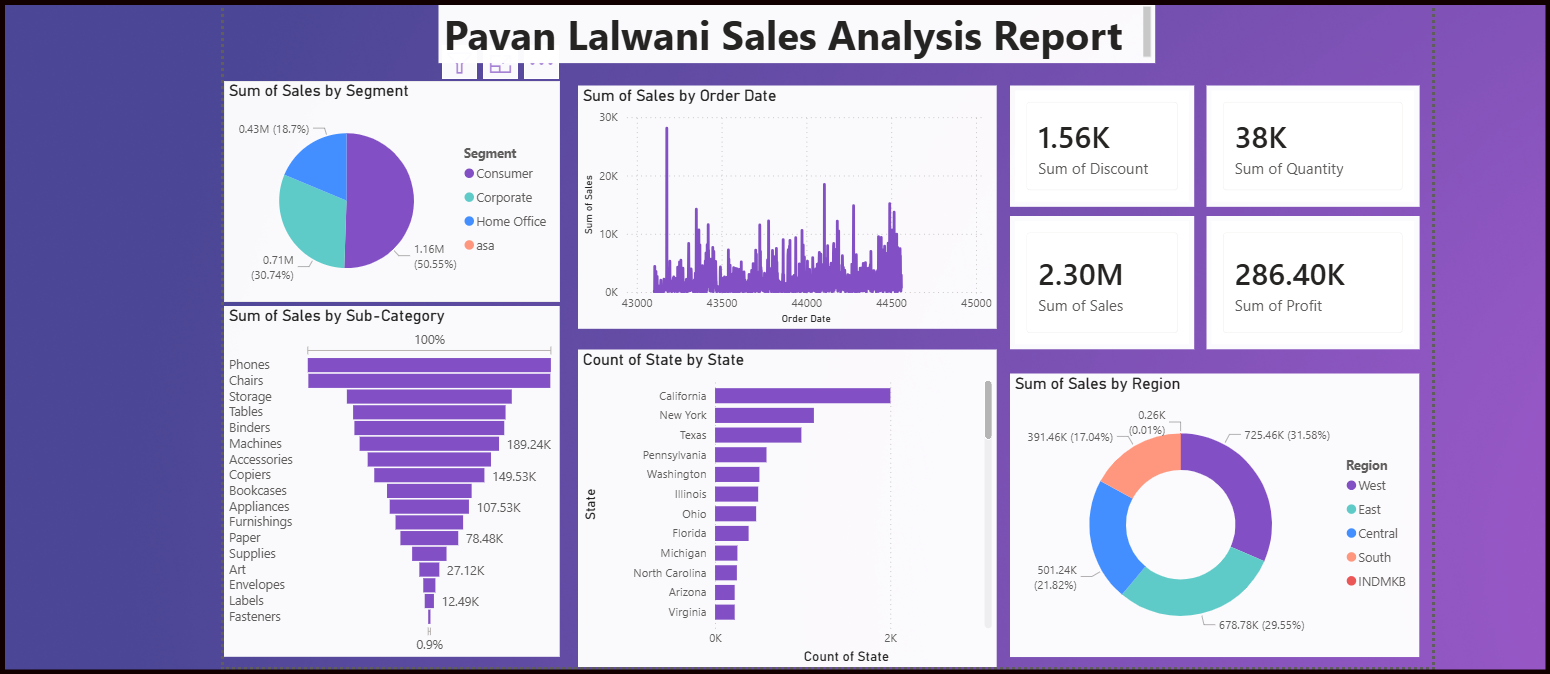

Layout of this report page (visuals, bound fields, positions):
{"tool":"powerbi","page":{"name":"Page 1","canvas":[1280,720],"ordinal":0},"visuals":[{"type":"donutChart","fields":{"Category":["Orders.Region"],"Y":["Sum(Orders.Sales)"]},"box":[833.5,408.8,434.2,300.6],"z":0},{"type":"funnel","fields":{"Category":["Orders.Sub-Category"],"Y":["Sum(Orders.Sales)"]},"box":[0,337.2,356.3,372.2],"z":1000},{"type":"pieChart","fields":{"Category":["Orders.Segment"],"Y":["Sum(Orders.Sales)"]},"box":[0,98.6,356.3,233.8],"z":2000},{"type":"lineChart","fields":{"Y":["Sum(Orders.Sales)"],"Category":["Orders.Order Date"]},"box":[375.4,103.4,443.8,257.7],"z":3000},{"type":"cardVisual","fields":{"Data":["Sum(Orders.Sales)"]},"box":[833.5,241.8,195.6,141.6],"z":4000},{"type":"cardVisual","fields":{"Data":["Sum(Orders.Profit)"]},"box":[1041.9,241.8,225.9,141.6],"z":5000},{"type":"textbox","box":[227.5,14.3,760.3,65.2],"z":6000},{"type":"cardVisual","fields":{"Data":["Sum(Orders.Quantity)"]},"box":[1041.9,103.4,225.9,128.8],"z":7000},{"type":"cardVisual","fields":{"Data":["Sum(Orders.Discount)"]},"box":[833.5,103.4,195.6,128.8],"z":8000},{"type":"barChart","fields":{"Category":["Orders.State"],"Y":["CountNonNull(Orders.State)"]},"box":[375.4,383.3,443.8,337.2],"z":8001}]}

Visuals, with their boxes in screenshot pixels (x1, y1, x2, y2):
donutChart - Orders.Region x Sum(Orders.Sales): box=[1012, 375, 1427, 663]
funnel - Orders.Sub-Category x Sum(Orders.Sales): box=[214, 307, 555, 663]
pieChart - Orders.Segment x Sum(Orders.Sales): box=[214, 78, 555, 302]
lineChart - Sum(Orders.Sales) x Orders.Order Date: box=[573, 83, 998, 330]
cardVisual - Sum(Orders.Sales): box=[1012, 215, 1199, 351]
cardVisual - Sum(Orders.Profit): box=[1211, 215, 1428, 351]
textbox: box=[432, 0, 1159, 60]
cardVisual - Sum(Orders.Quantity): box=[1211, 83, 1428, 206]
cardVisual - Sum(Orders.Discount): box=[1012, 83, 1199, 206]
barChart - Orders.State x CountNonNull(Orders.State): box=[573, 351, 998, 673]
